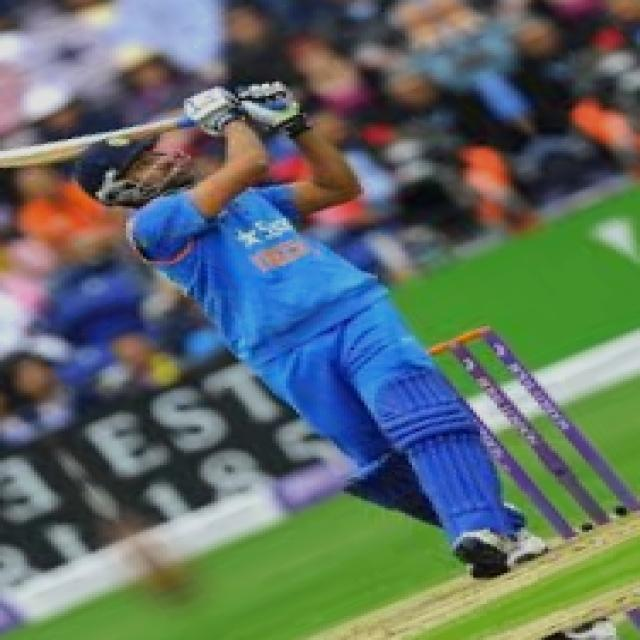toe: (0, 148, 22, 169)
